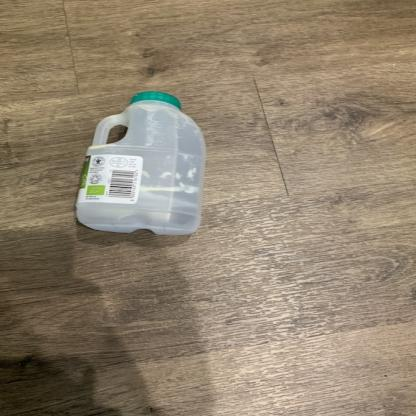trash: (80, 97, 202, 241)
